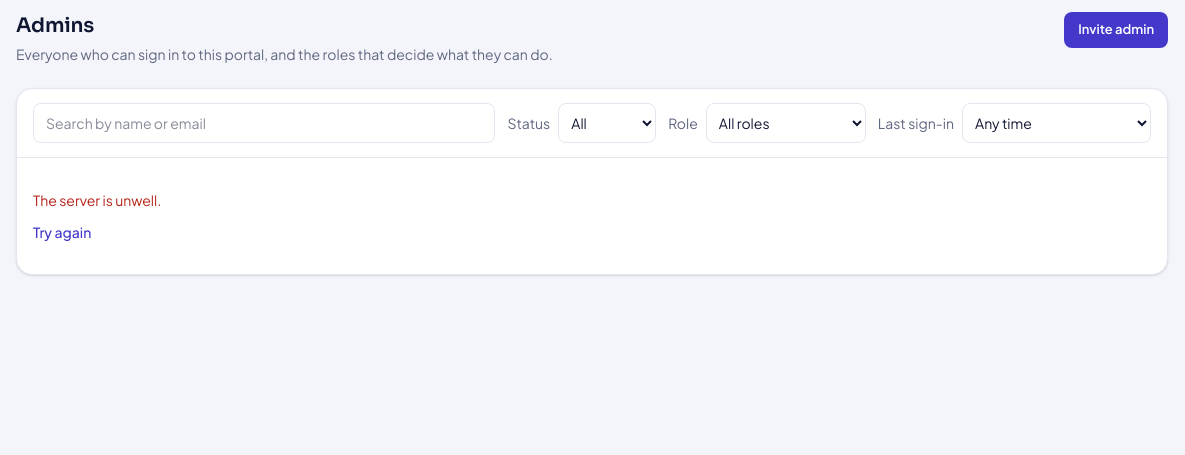
AdminsListPage › shows the API error and retries
The image size is (1185, 455).
Expected: the message shows "The server is unwell.", 33,191 -> 161,209
Click the button "Try again".
click(62, 232)  # box 33,222 -> 91,242
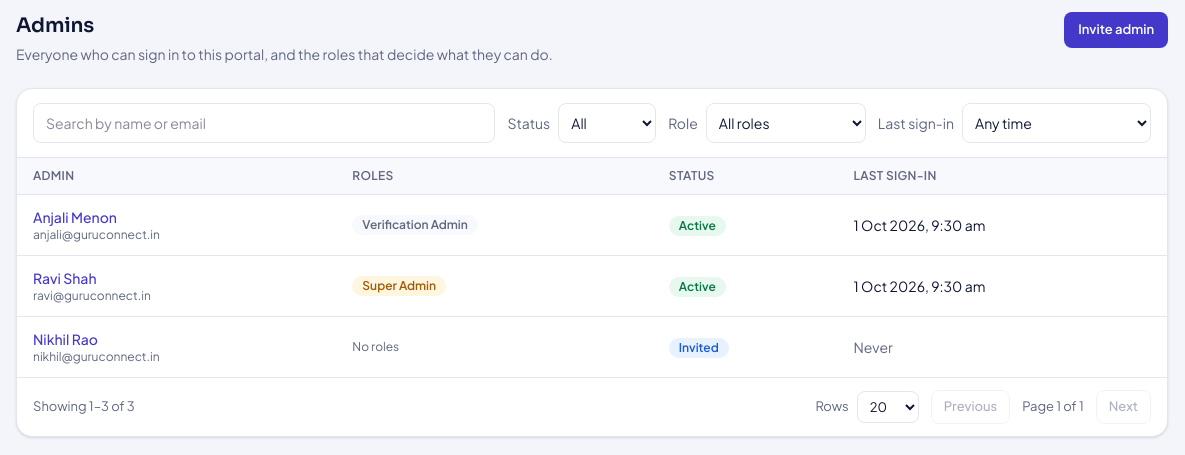
Now the link "Anjali Menon" is shown, box 33,208 -> 117,226
